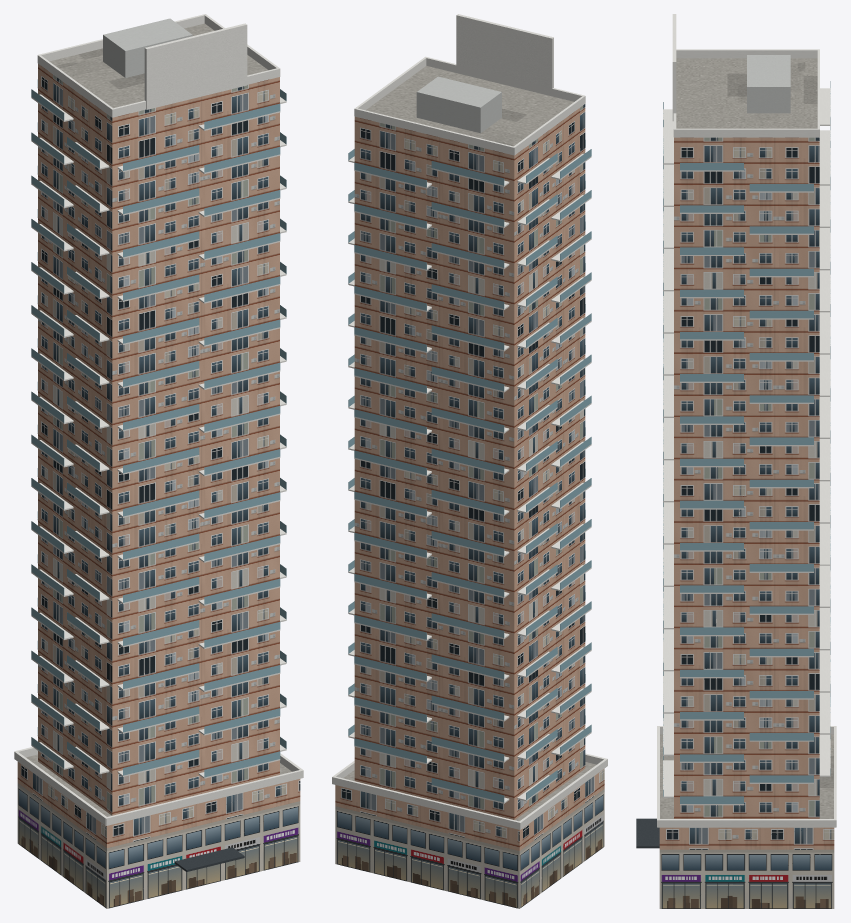
The model's file is OW_CaoOc_CH_ZigZag_116.fbx.
3 renders of one model, left to right at view 1: azimuth 30°, elevation 25°; view 2: azimuth 150°, elevation 25°; view 3: azimuth 270°, elevation 25°, orthographic. The views are drawn at different scales.
Parts seen in each view (by area): view 1: OW_CaoOc_CH_ZigZag_116_LOD0; view 2: OW_CaoOc_CH_ZigZag_116_LOD0; view 3: OW_CaoOc_CH_ZigZag_116_LOD0.
Part boxes in pixels (box(x1,y1,x2,y2)): OW_CaoOc_CH_ZigZag_116_LOD0: box(14, 14, 303, 908); OW_CaoOc_CH_ZigZag_116_LOD0: box(332, 14, 607, 908); OW_CaoOc_CH_ZigZag_116_LOD0: box(636, 14, 836, 908).
Size of what is drawn, in the model's own units: 30.7 by 125 by 27.55.
